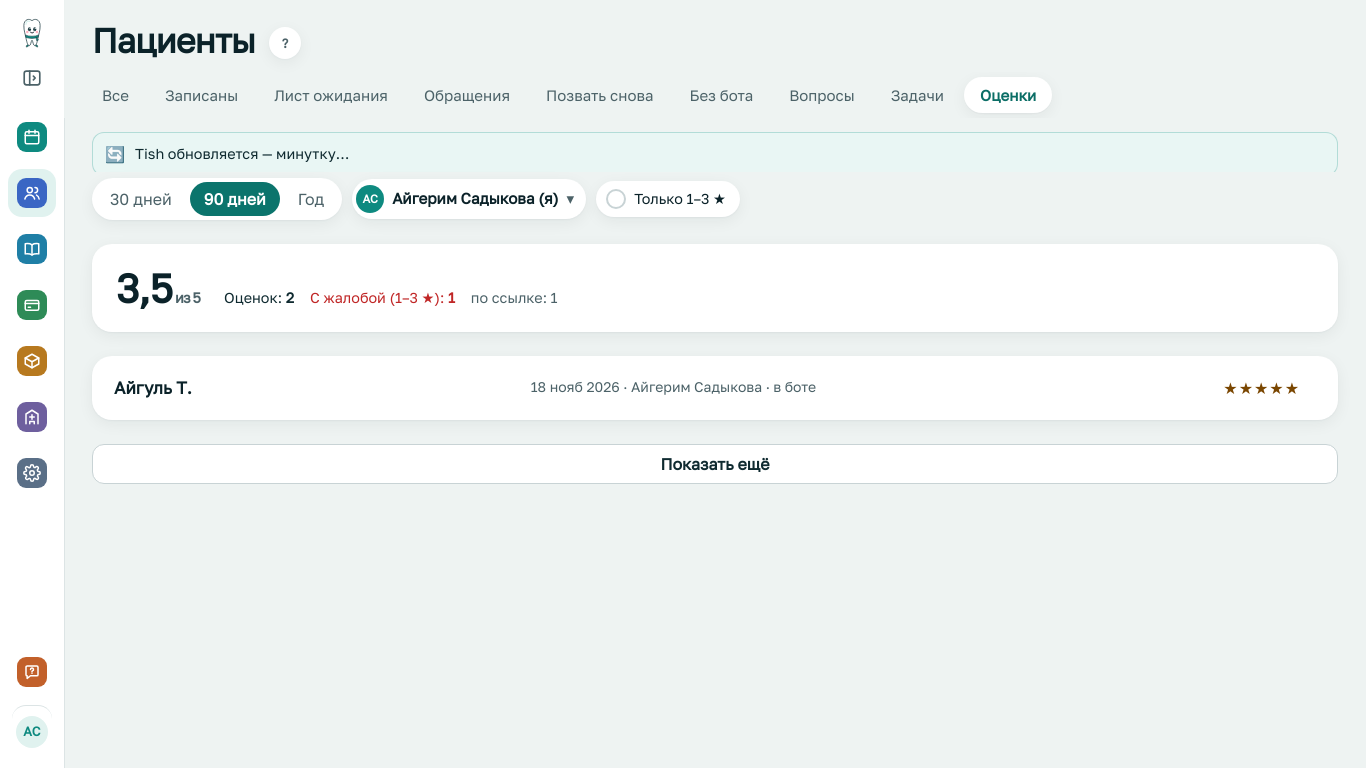
Scenario: «Показать ещё» — следующая страница
Check: the number of list items is 1, box [1223,378,1300,398]
Click the button "Показать ещё" at point(715, 464), box [92,444,1338,484]
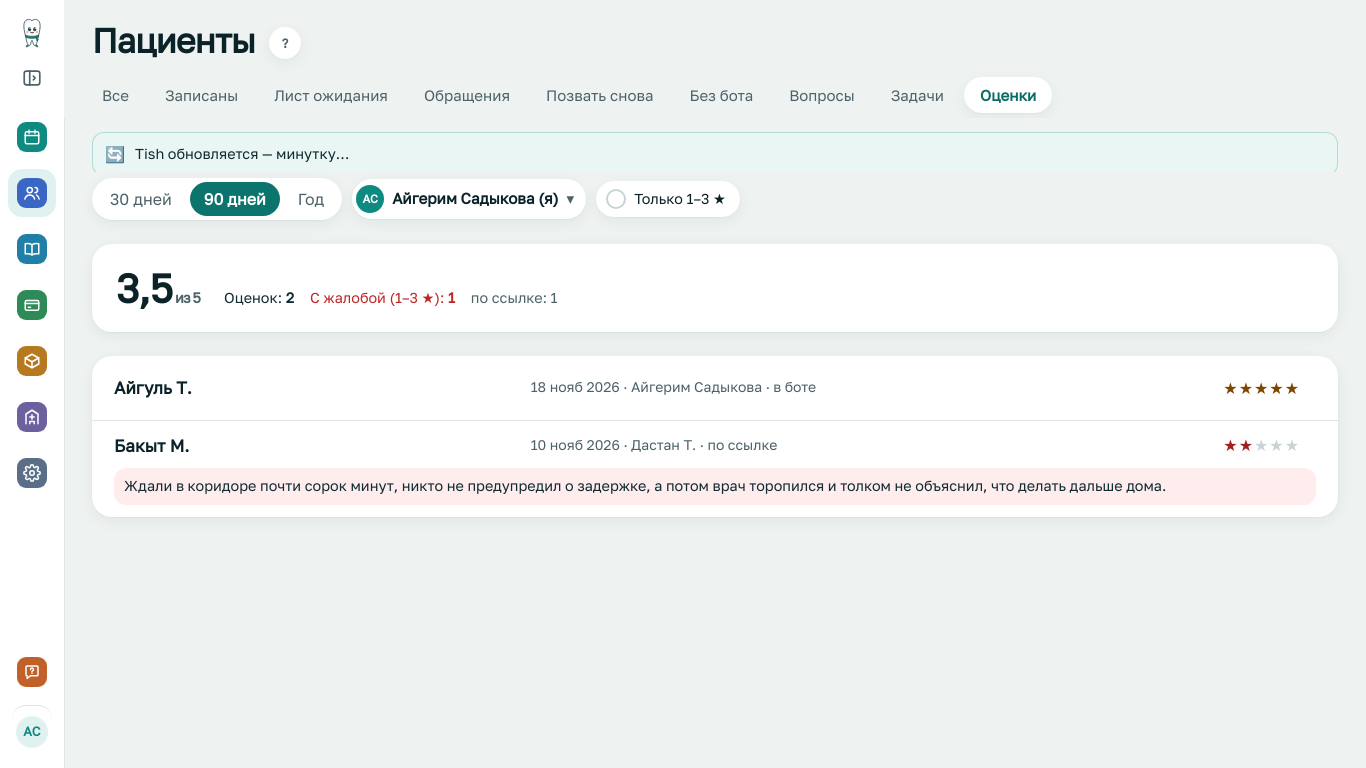
Check: the button "Бакыт М." is shown, box [114,433,189,458]
Check: the button "Показать ещё" is gone
